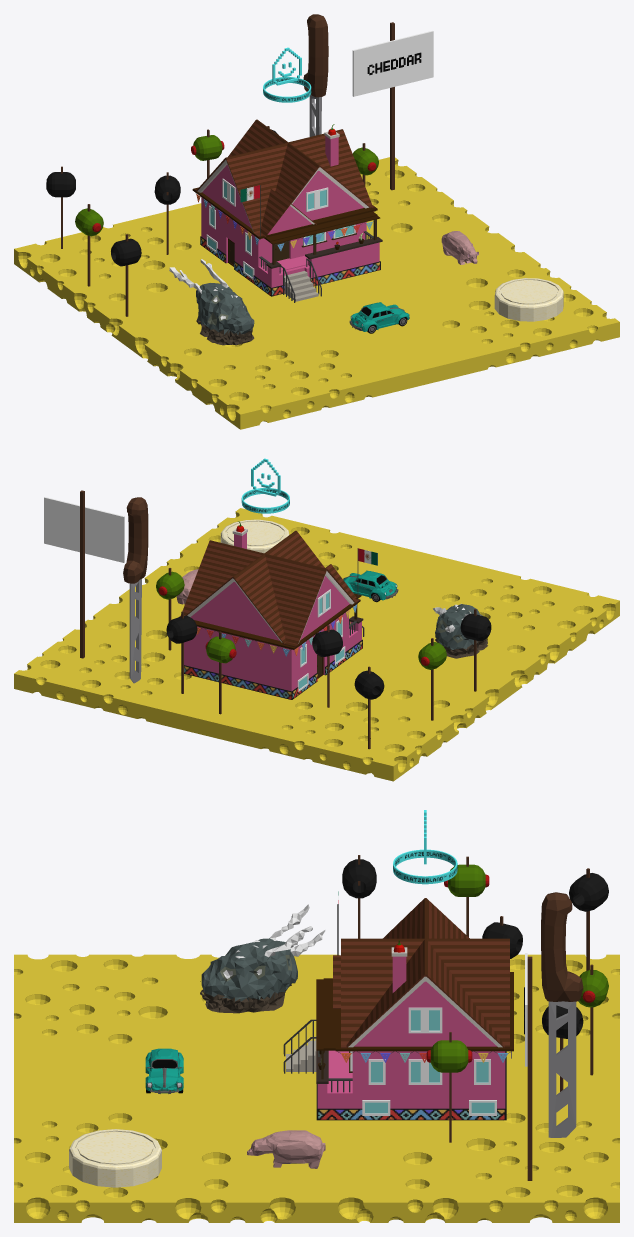
3 views of the same model, one above another, from view 1: azimuth 30°, elevation 25°; view 2: azimuth 150°, elevation 25°; view 3: azimuth 270°, elevation 25° (orthographic). The views are drawn at different scales.
Visible parts, largest first — view 1: Cube.022, Cube.1005, Cube.023, OBJRANDOM_METEORITE, Cylinder.016, Cube.024, VEHICLES_VOLKSWAGEN, TYPE_PREMIUM, Sphere.017, ANIMAL_HIPOPOTAMO, Sphere.018, Sphere.016 (+3 smaller); view 2: Cube.022, Cube.1005, Cube.023, Cube.024, OBJRANDOM_METEORITE, Cylinder.016, VEHICLES_VOLKSWAGEN, TYPE_PREMIUM, Sphere.021, Sphere.017, Sphere.020, Sphere.022 (+3 smaller); view 3: Cube.022, Cube.1005, OBJRANDOM_METEORITE, Cube.024, Cylinder.016, ANIMAL_HIPOPOTAMO, VEHICLES_VOLKSWAGEN, Cube.023, Sphere.019, Sphere.016, TYPE_PREMIUM, Sphere.017 (+4 smaller).
Part boxes in pixels (x1,y1,x2,y2): Cube.022: [14, 157, 619, 429]; Cube.1005: [192, 119, 382, 302]; Cube.023: [352, 22, 433, 190]; OBJRANDOM_METEORITE: [169, 259, 254, 345]; Cylinder.016: [494, 278, 563, 321]; Cube.024: [303, 14, 328, 136]; VEHICLES_VOLKSWAGEN: [349, 302, 409, 333]; TYPE_PREMIUM: [263, 47, 311, 102]; Sphere.017: [111, 234, 141, 316]; ANIMAL_HIPOPOTAMO: [441, 231, 478, 264]; Sphere.018: [75, 204, 103, 286]; Sphere.016: [46, 166, 75, 248]; Cube.022: [14, 508, 619, 781]; Cube.1005: [179, 521, 377, 699]; Cube.023: [44, 490, 124, 658]; Cube.024: [123, 497, 148, 683]; OBJRANDOM_METEORITE: [433, 603, 487, 658]; Cylinder.016: [220, 519, 289, 553]; VEHICLES_VOLKSWAGEN: [343, 570, 398, 602]; TYPE_PREMIUM: [241, 458, 289, 513]; Sphere.021: [166, 611, 197, 693]; Sphere.017: [460, 609, 491, 691]; Sphere.020: [312, 625, 342, 707]; Sphere.022: [205, 631, 236, 714]; Cube.022: [14, 954, 619, 1222]; Cube.1005: [283, 891, 513, 1120]; OBJRANDOM_METEORITE: [200, 904, 325, 1013]; Cube.024: [541, 892, 583, 1137]; Cylinder.016: [69, 1129, 161, 1187]; ANIMAL_HIPOPOTAMO: [247, 1130, 325, 1168]; VEHICLES_VOLKSWAGEN: [145, 1048, 183, 1093]; Cube.023: [524, 953, 532, 1180]; Sphere.019: [426, 1032, 472, 1142]; Sphere.016: [569, 868, 608, 970]; TYPE_PREMIUM: [393, 810, 457, 884]; Sphere.017: [342, 855, 376, 938].
Bounding box in the file's own units: 3917 × 2247 × 4000.
73 materials, 7 textured.
